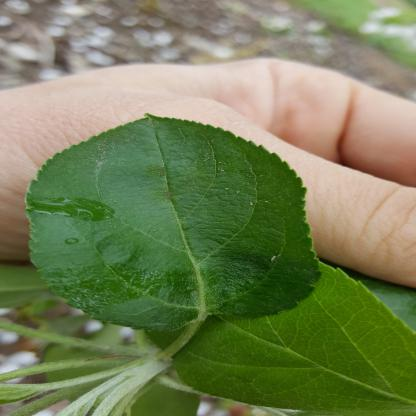apple leaf: (21, 111, 336, 338)
